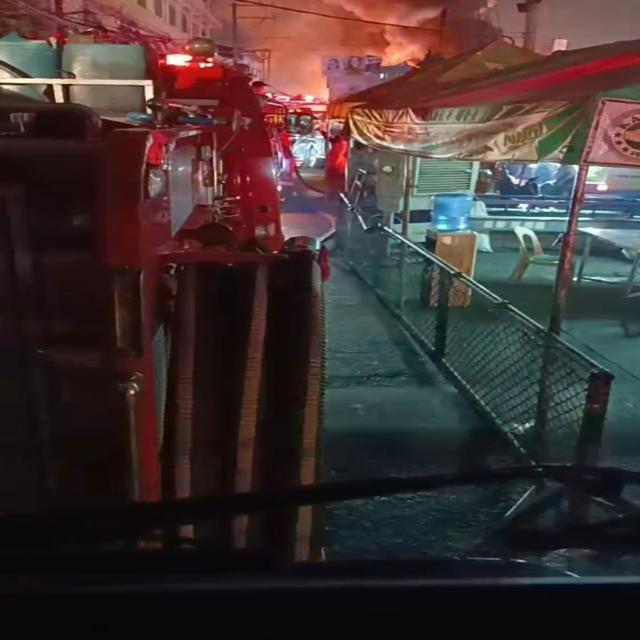Smoke: (321, 0, 501, 65)
